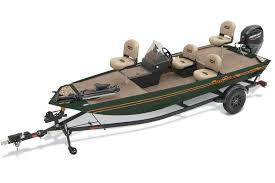boat: (2, 18, 272, 155)
